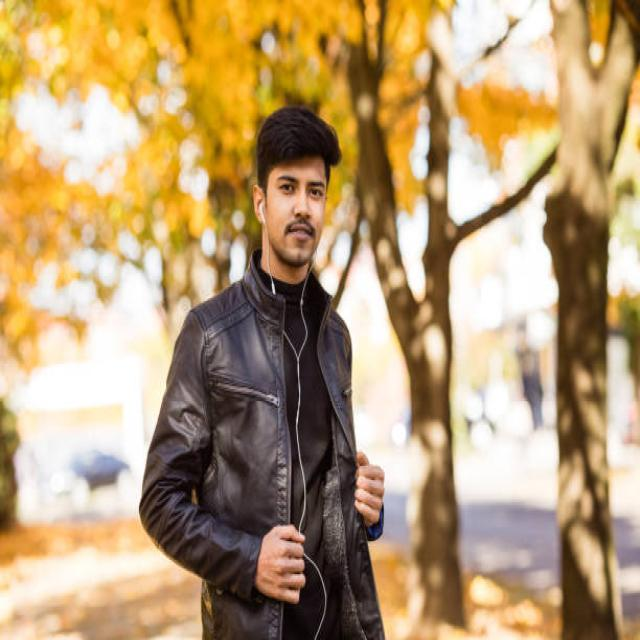Earphone: (258, 201, 322, 523)
